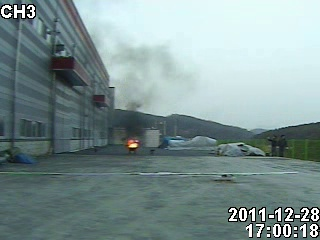fire: (122, 134, 139, 150)
smoke: (106, 47, 159, 118)
